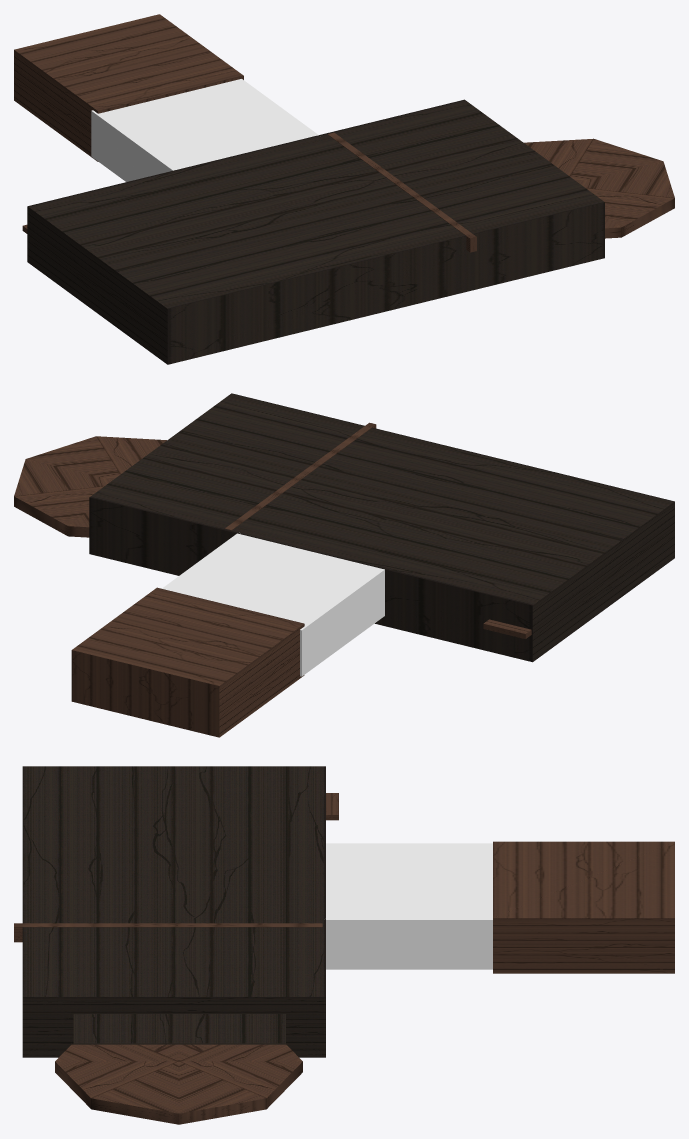
The model's file is main_map_mesh.gltf.
3 views of the same model, one above another, from view 1: azimuth 30°, elevation 25°; view 2: azimuth 150°, elevation 25°; view 3: azimuth 270°, elevation 25° (orthographic). The views are drawn at different scales.
Visible parts, largest first — view 1: CSGCombiner3D2; view 2: CSGCombiner3D2; view 3: CSGCombiner3D2.
Part boxes in pixels (x1=…): CSGCombiner3D2: x1=14, y1=14, x2=674, y2=364; CSGCombiner3D2: x1=14, y1=393, x2=674, y2=737; CSGCombiner3D2: x1=14, y1=766, x2=674, y2=1124.
Size of the model in its own units: 117 by 11.5 by 109.
13 materials, 12 textured.
